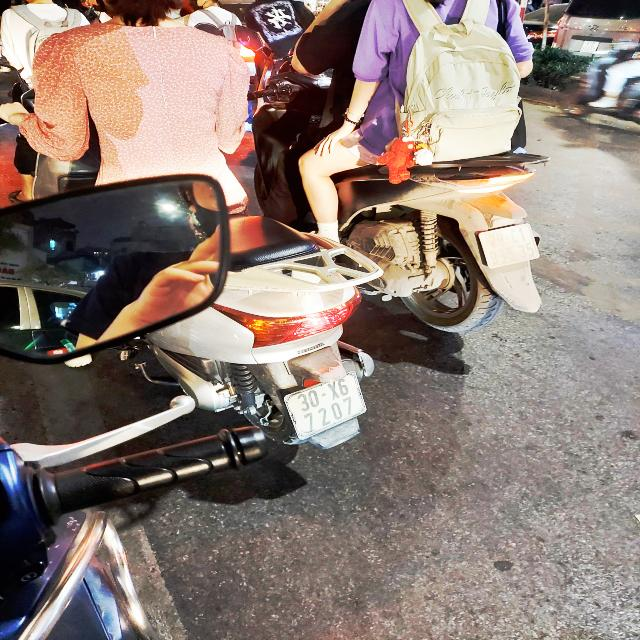license_plate: (279, 365, 373, 447), (473, 220, 546, 274), (579, 40, 603, 56)
